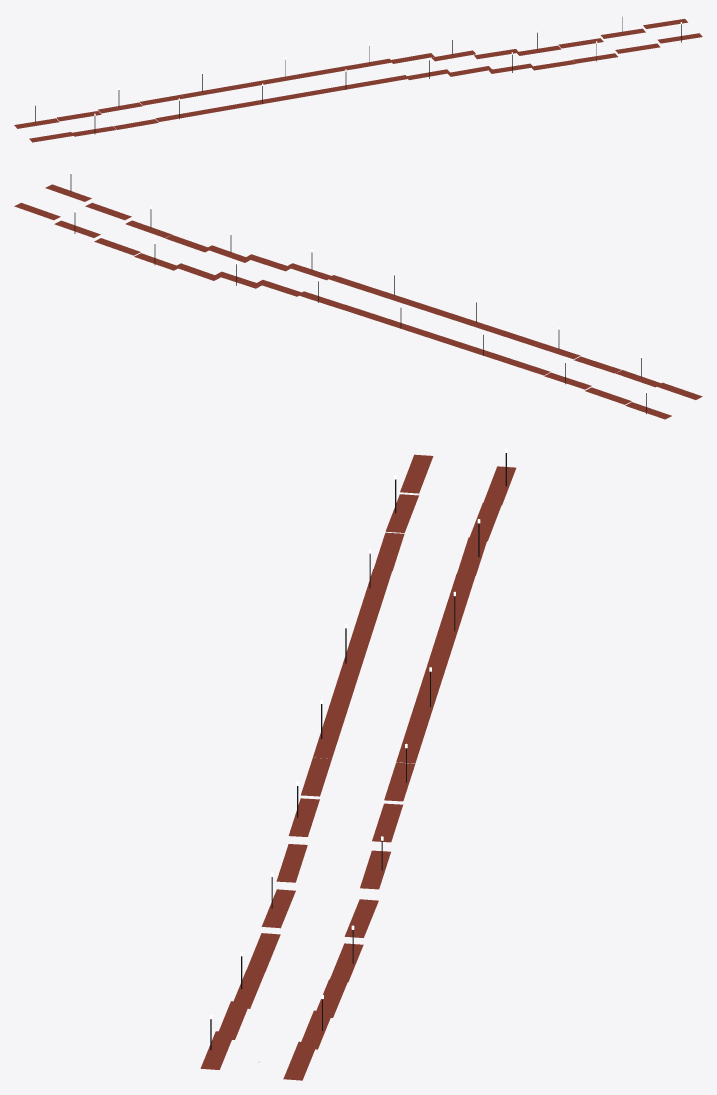
Rendered from noord_brick_pb.glb.
3 renders of one model, top to bottom at view 1: azimuth 30°, elevation 25°; view 2: azimuth 150°, elevation 25°; view 3: azimuth 270°, elevation 25°, orthographic. The views are drawn at different scales.
Visible parts, largest first — view 1: noord_brick_pb_lod0; view 2: noord_brick_pb_lod0; view 3: noord_brick_pb_lod0.
Boxes of the visible parts, x1=… form: noord_brick_pb_lod0: x1=14, y1=14, x2=702, y2=142; noord_brick_pb_lod0: x1=14, y1=171, x2=702, y2=419; noord_brick_pb_lod0: x1=200, y1=448, x2=516, y2=1080.
Size of what is drawn, in the model's own units: 192 by 10.6 by 42.1.
